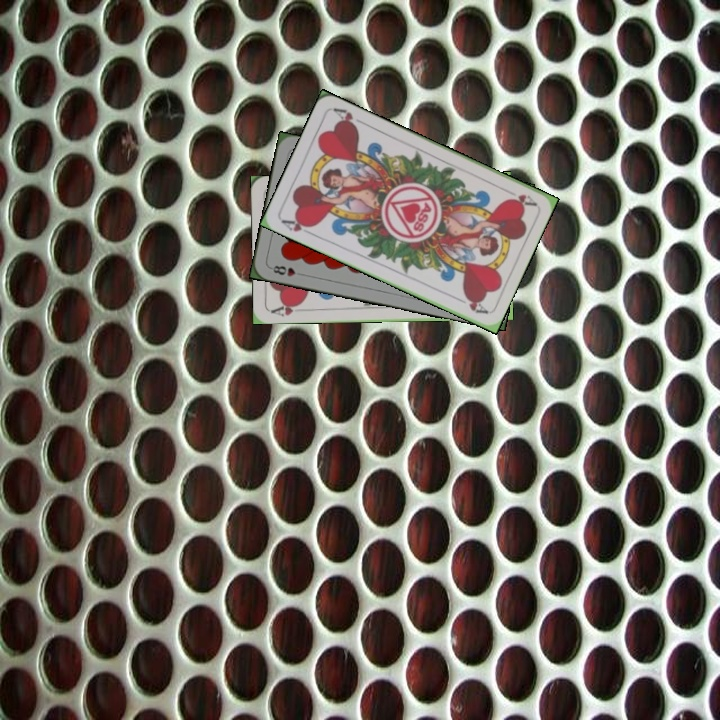H8: (266, 261, 307, 279)
HA: (277, 214, 316, 238), (500, 184, 538, 208), (268, 299, 308, 319)
